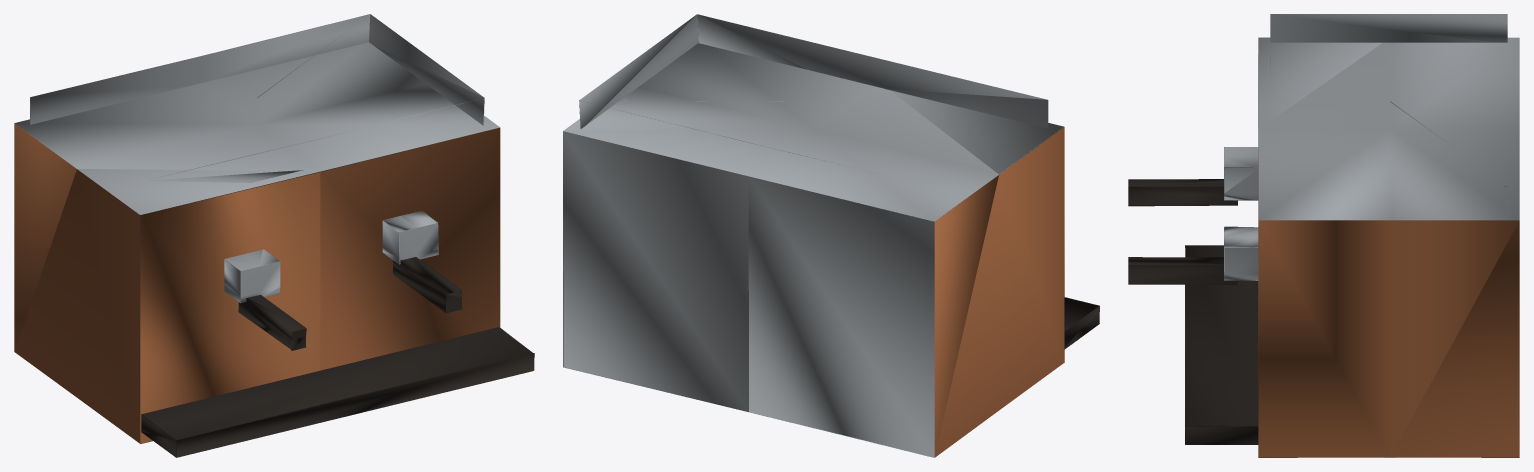
Rendered from station_espresso_2g.glb.
3 views of the same model, side by side, from view 1: azimuth 30°, elevation 25°; view 2: azimuth 150°, elevation 25°; view 3: azimuth 270°, elevation 25° (orthographic). The views are drawn at different scales.
Parts seen in each view (by area): view 1: station_espresso_2g; view 2: station_espresso_2g; view 3: station_espresso_2g.
Boxes of the visible parts, left/top/right/bottom form: station_espresso_2g: left=14, top=14, right=534, bottom=457; station_espresso_2g: left=563, top=14, right=1099, bottom=457; station_espresso_2g: left=1128, top=14, right=1519, bottom=457.
Size of the model in its own units: 0.76 by 0.5189 by 0.6893.
1 material, 1 textured.
